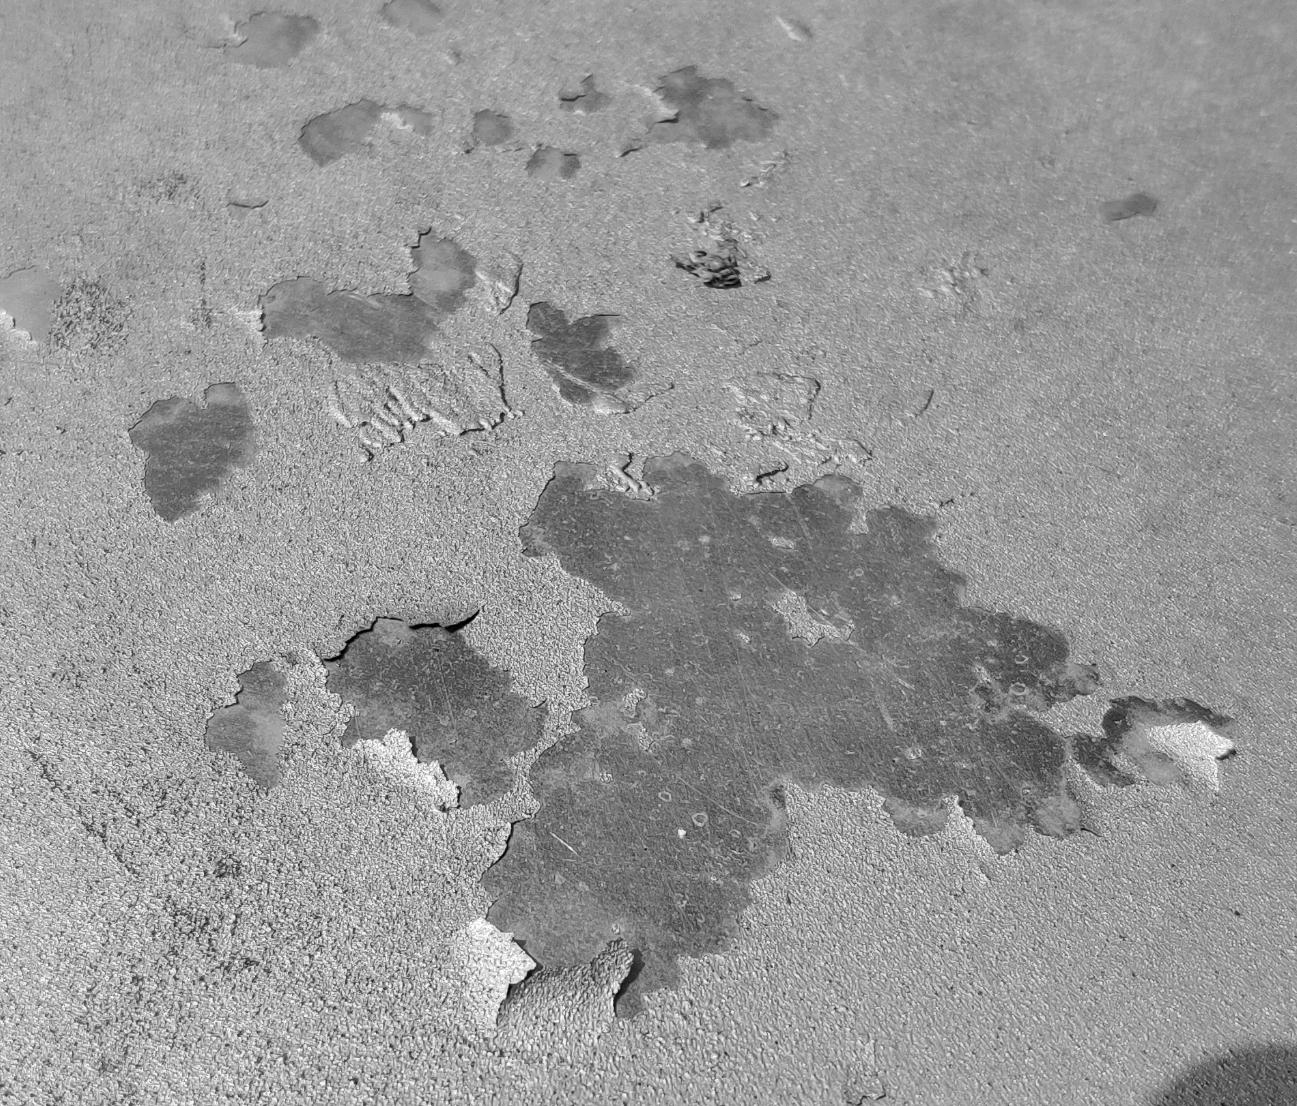paint-off: (0, 1, 1297, 1106)
